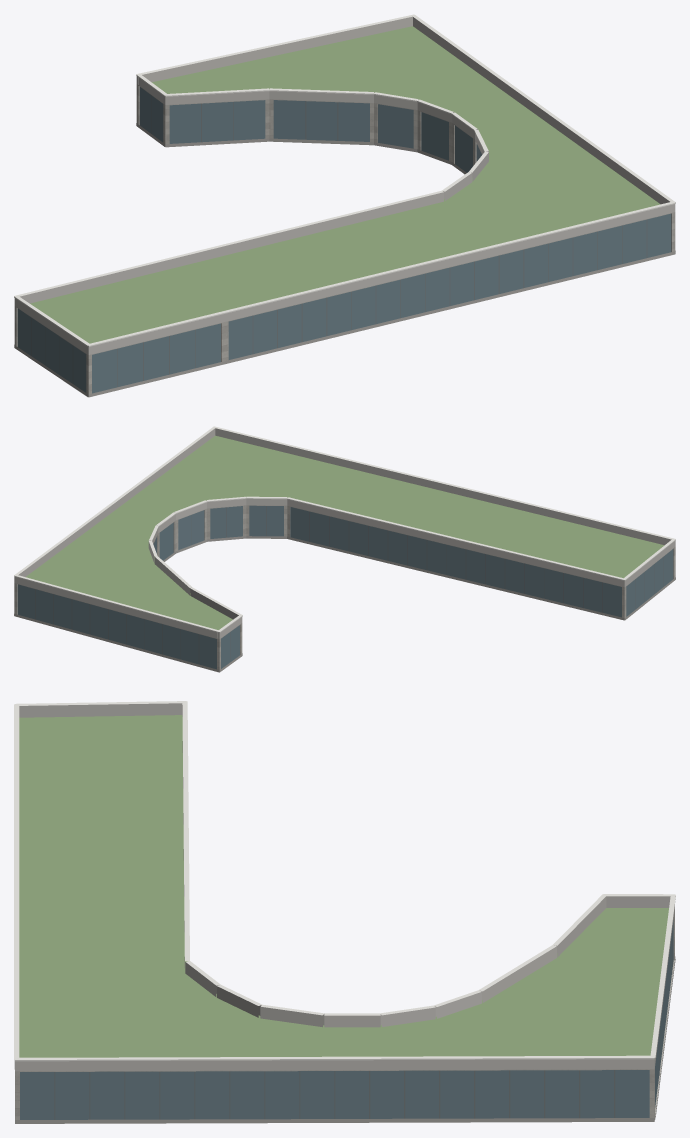
3 renders of one model, top to bottom at view 1: azimuth 30°, elevation 25°; view 2: azimuth 150°, elevation 25°; view 3: azimuth 270°, elevation 25°, orthographic. The views are drawn at different scales.
Parts seen in each view (by area): view 1: gonzagaPlaza__roof, gonzagaPlaza__glass, gonzagaPlaza__parapet, gonzagaPlaza__trim, gonzagaPlaza__wall, gonzagaPlaza__base, gonzagaPlaza__frame; view 2: gonzagaPlaza__roof, gonzagaPlaza__glass, gonzagaPlaza__parapet, gonzagaPlaza__trim, gonzagaPlaza__base, gonzagaPlaza__wall, gonzagaPlaza__frame; view 3: gonzagaPlaza__roof, gonzagaPlaza__glass, gonzagaPlaza__parapet, gonzagaPlaza__trim, gonzagaPlaza__base, gonzagaPlaza__wall, gonzagaPlaza__frame.
Part boxes in pixels (x1=…): gonzagaPlaza__roof: x1=30, y1=26, x2=660, y2=343; gonzagaPlaza__glass: x1=17, y1=87, x2=671, y2=393; gonzagaPlaza__parapet: x1=14, y1=16, x2=675, y2=354; gonzagaPlaza__trim: x1=14, y1=14, x2=675, y2=346; gonzagaPlaza__wall: x1=14, y1=84, x2=675, y2=396; gonzagaPlaza__base: x1=14, y1=123, x2=675, y2=397; gonzagaPlaza__frame: x1=31, y1=95, x2=647, y2=387; gonzagaPlaza__roof: x1=25, y1=435, x2=664, y2=629; gonzagaPlaza__glass: x1=17, y1=505, x2=673, y2=669; gonzagaPlaza__parapet: x1=14, y1=428, x2=675, y2=639; gonzagaPlaza__trim: x1=14, y1=426, x2=675, y2=632; gonzagaPlaza__base: x1=14, y1=536, x2=675, y2=672; gonzagaPlaza__wall: x1=14, y1=505, x2=675, y2=671; gonzagaPlaza__frame: x1=35, y1=506, x2=663, y2=664; gonzagaPlaza__roof: x1=19, y1=715, x2=668, y2=1057; gonzagaPlaza__glass: x1=20, y1=920, x2=673, y2=1119; gonzagaPlaza__parapet: x1=14, y1=703, x2=674, y2=1071; gonzagaPlaza__trim: x1=14, y1=701, x2=675, y2=1061; gonzagaPlaza__base: x1=15, y1=956, x2=675, y2=1123; gonzagaPlaza__wall: x1=15, y1=909, x2=674, y2=1119; gonzagaPlaza__frame: x1=54, y1=931, x2=672, y2=1119.
Size of the model in its own units: 58.87 by 4.9 by 45.88.
Materials: 7 (1 with a texture image).
